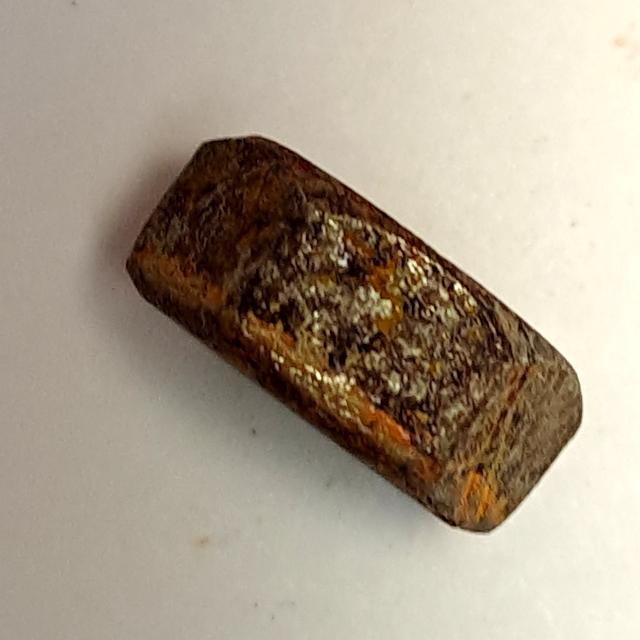Rust: (111, 124, 601, 541)
